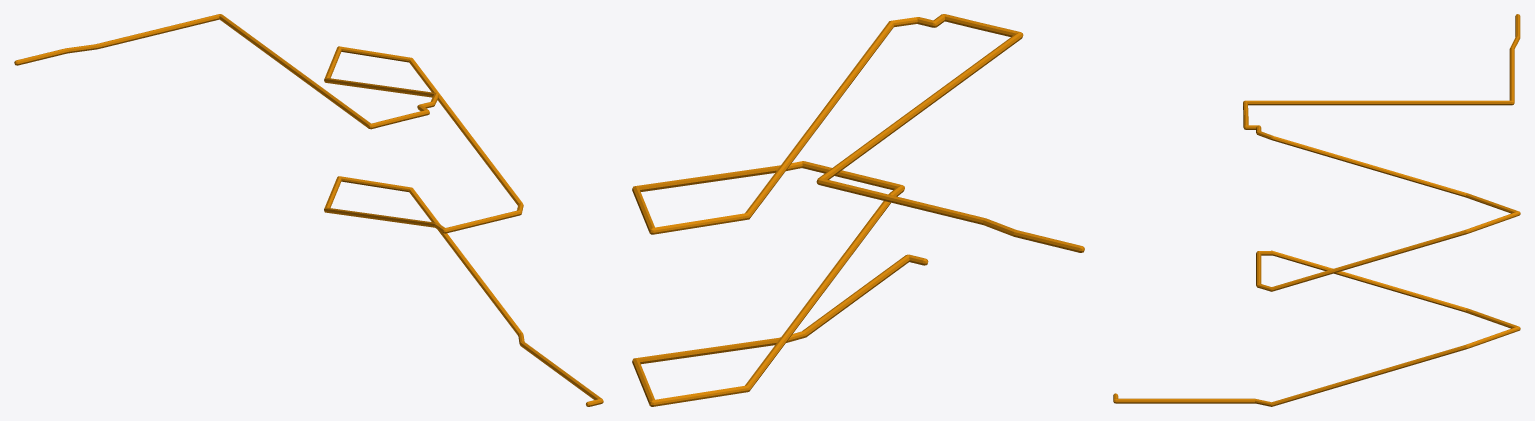
The picture shows the model from 3 angles, left to right: view 1: azimuth 30°, elevation 25°; view 2: azimuth 150°, elevation 25°; view 3: azimuth 270°, elevation 25°; orthographic projection. The views are drawn at different scales.
Size of the model in its own units: 1492 by 1020 by 1605.
